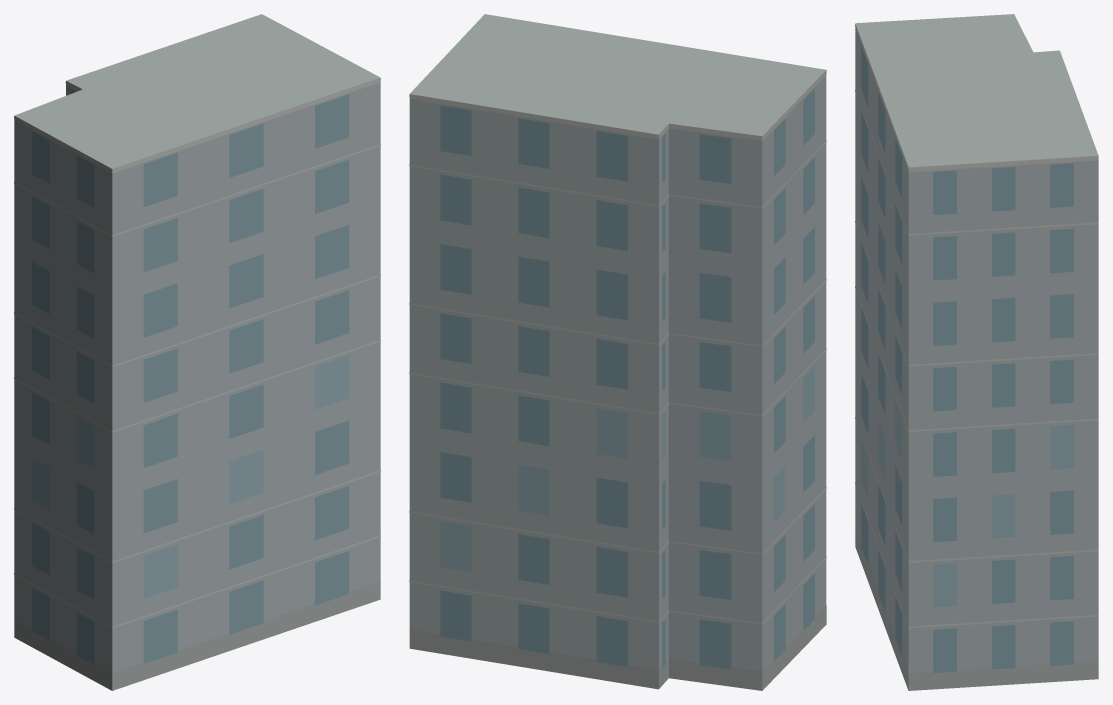
Rendered from survey-upis-32907355.glb.
The picture shows the model from 3 angles, left to right: view 1: azimuth 30°, elevation 25°; view 2: azimuth 150°, elevation 25°; view 3: azimuth 270°, elevation 25°; orthographic projection. The views are drawn at different scales.
Visible parts, largest first — view 1: survey-upis-32907355.tmp; view 2: survey-upis-32907355.tmp; view 3: survey-upis-32907355.tmp.
Part boxes in pixels (box(x1,y1,x2,y2)): survey-upis-32907355.tmp: box(14, 14, 380, 690); survey-upis-32907355.tmp: box(409, 14, 826, 690); survey-upis-32907355.tmp: box(855, 14, 1098, 690).
Size of the model in its own units: 17.26 by 27.4 by 11.57.
